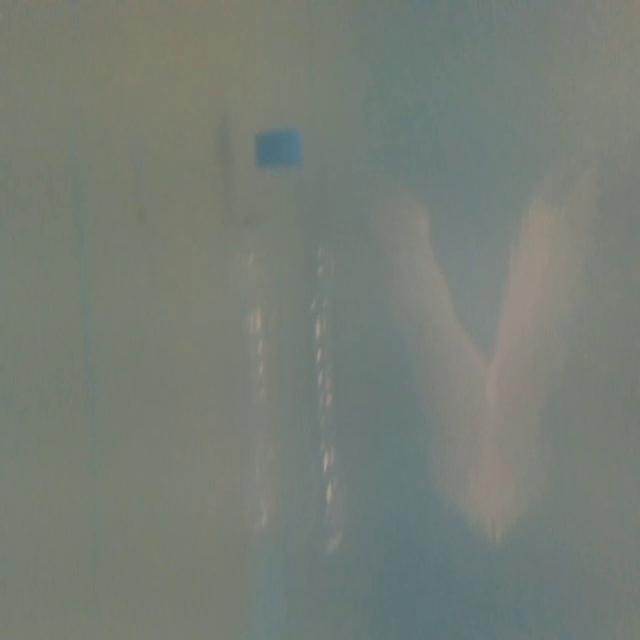plastic bags: (373, 108, 574, 544)
plastic bottle: (235, 120, 357, 564)
